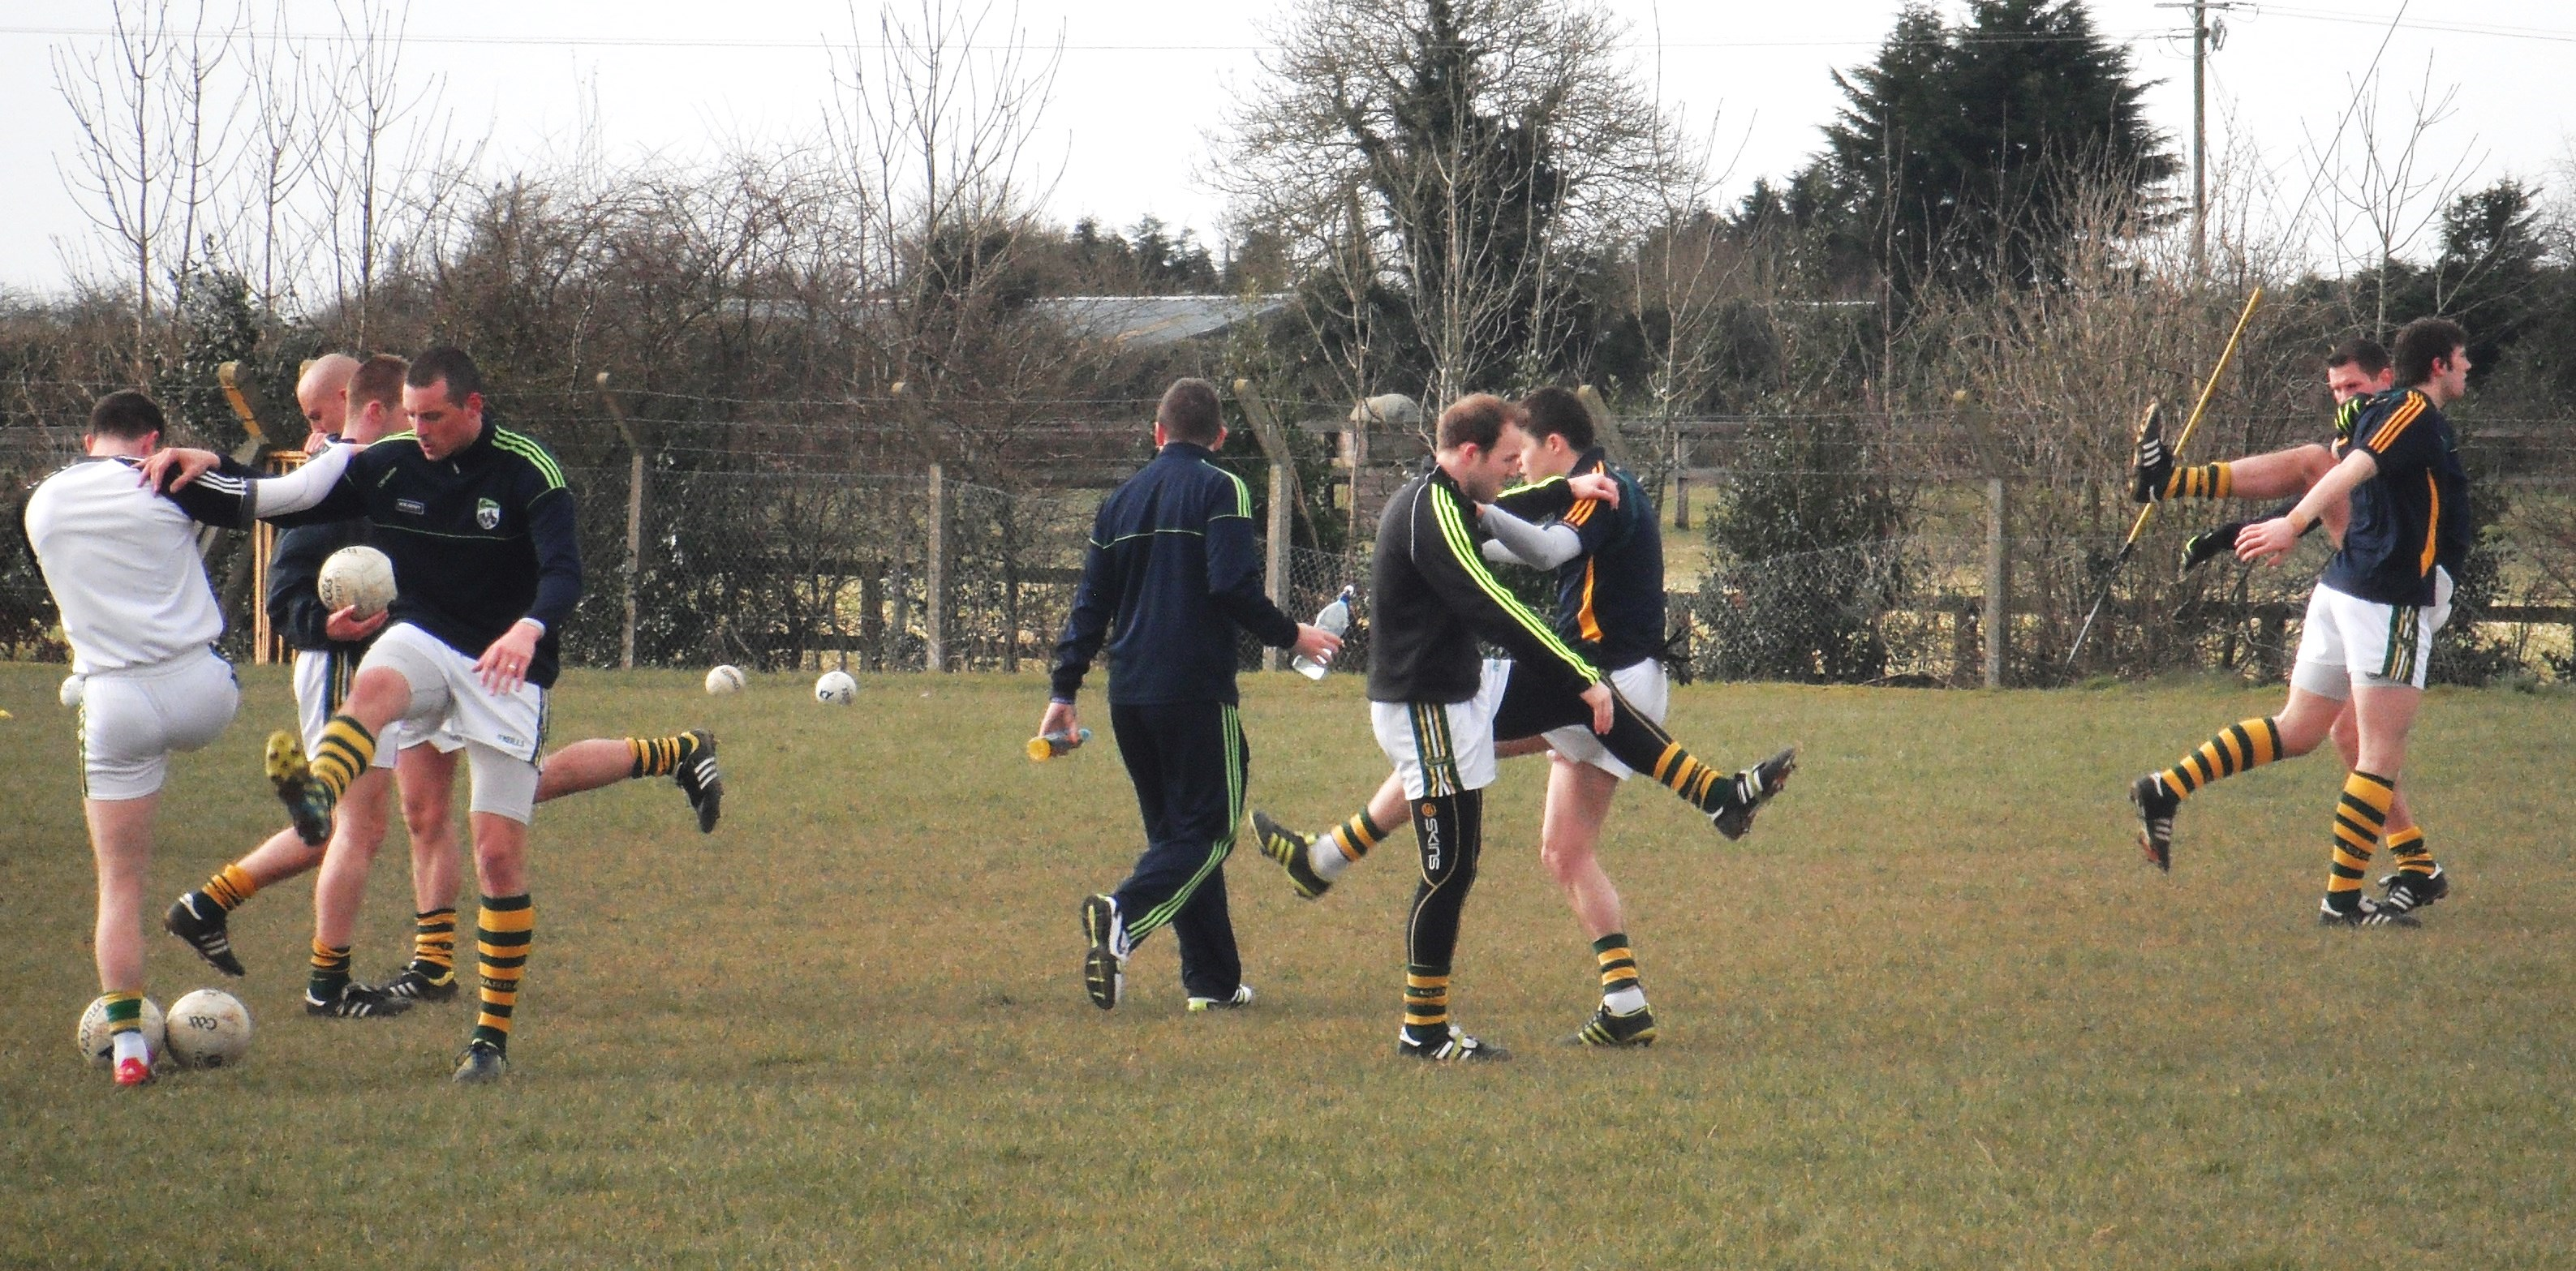ball: (171, 991, 256, 1063), (76, 996, 157, 1066), (325, 548, 388, 624), (818, 671, 855, 699), (704, 664, 745, 693)
player: (1070, 368, 1329, 1014), (1390, 365, 1615, 1029), (356, 346, 570, 1040), (52, 370, 235, 1031), (1497, 389, 1685, 1024), (2316, 306, 2493, 907)
